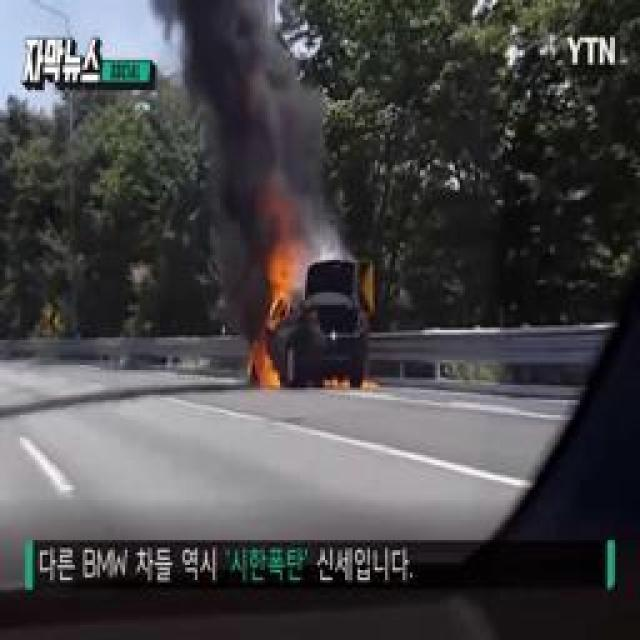Fire: (251, 340, 286, 387), (268, 259, 300, 306)
